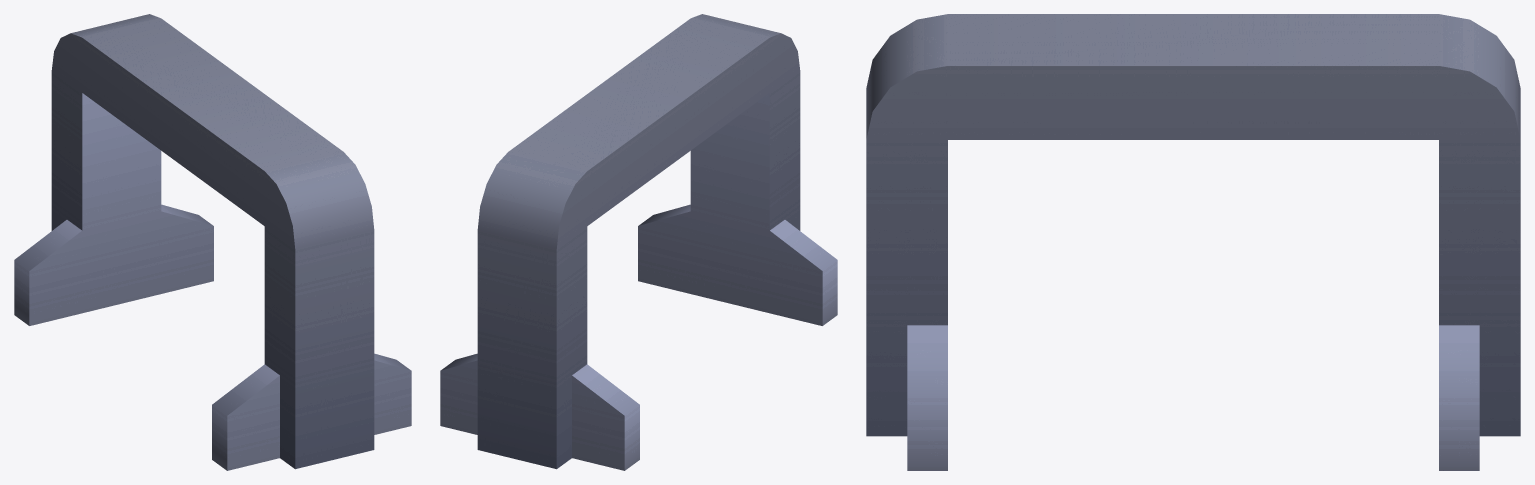
The model's file is scanner-low.glb.
3 renders of one model, left to right at view 1: azimuth 30°, elevation 25°; view 2: azimuth 150°, elevation 25°; view 3: azimuth 270°, elevation 25°, orthographic. The views are drawn at different scales.
Visible parts, largest first — view 1: scanner-low; view 2: scanner-low; view 3: scanner-low.
Boxes of the visible parts, bbox=[...] form: scanner-low: bbox=[14, 14, 411, 470]; scanner-low: bbox=[440, 14, 837, 470]; scanner-low: bbox=[866, 14, 1520, 470].
Size of the model in its own units: 0.7 by 1 by 1.6.
1 material, 1 textured.
